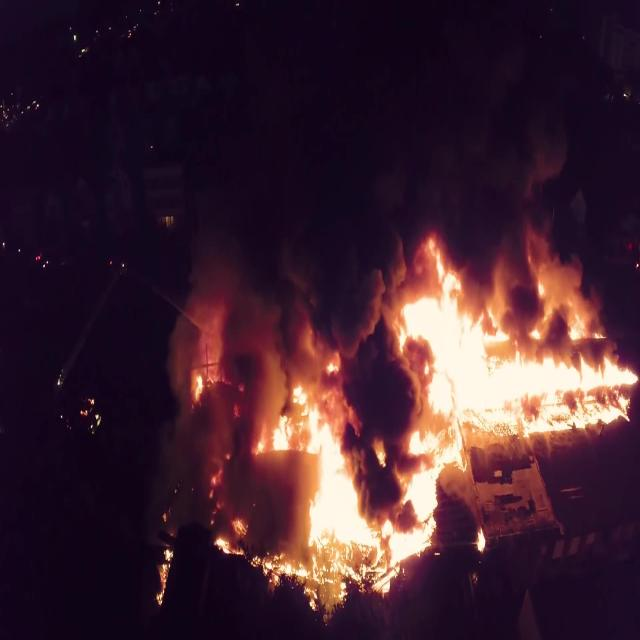Fire: (154, 195, 639, 621)
Smoke: (154, 15, 567, 543)
